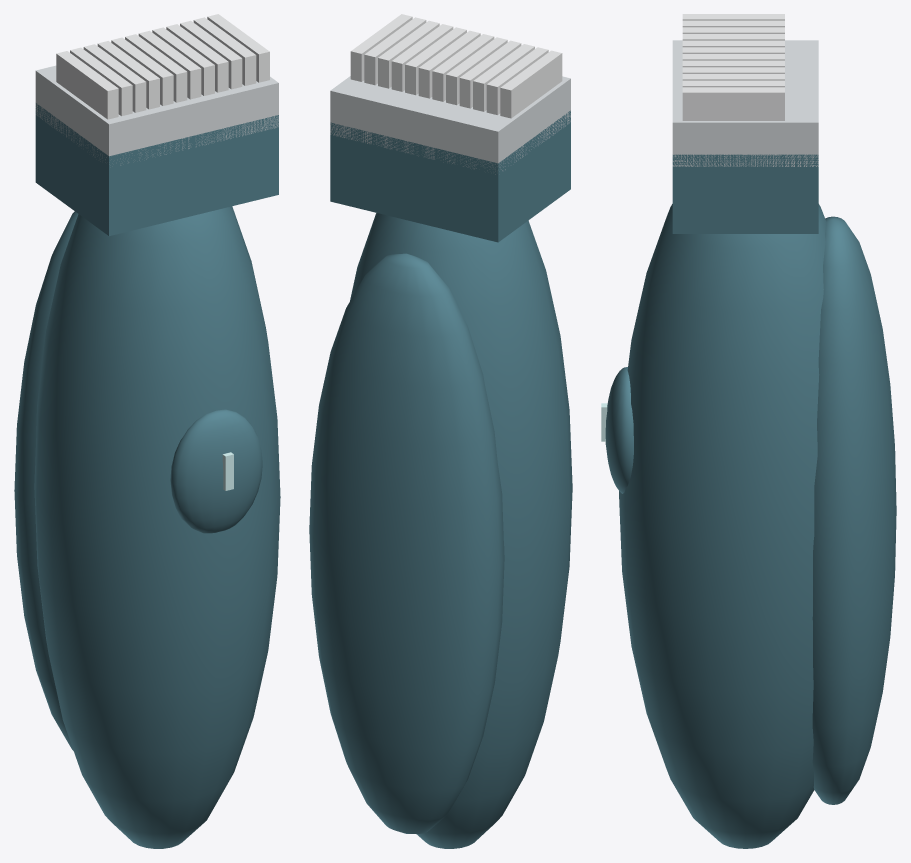
File: detail.glb
3 renders of one model, left to right at view 1: azimuth 30°, elevation 25°; view 2: azimuth 150°, elevation 25°; view 3: azimuth 270°, elevation 25°, orthographic.
Visible parts, largest first — view 1: Grip, Blade_mount, Blade_plate, Rubber_back, Power_button, Tooth_0, Tooth_2, Tooth_6, Tooth_9, Tooth_10, Tooth_5, Tooth_1 (+5 smaller); view 2: Rubber_back, Grip, Blade_mount, Blade_plate, Tooth_0, Tooth_6, Tooth_1, Tooth_11, Tooth_3, Tooth_10, Tooth_7, Tooth_8 (+4 smaller); view 3: Grip, Rubber_back, Blade_mount, Blade_plate, Tooth_11, Power_button, Tooth_1, Tooth_4, Tooth_7, Tooth_10, Tooth_0, Tooth_2 (+5 smaller).
Boxes of the visible parts, x1,y1,x2,y2 form: Grip: (34, 206, 280, 848); Blade_mount: (35, 103, 278, 236); Blade_plate: (35, 65, 278, 165); Rubber_back: (14, 211, 78, 750); Power_button: (170, 409, 262, 533); Tooth_0: (56, 51, 118, 119); Tooth_2: (83, 44, 146, 112); Tooth_6: (138, 30, 201, 99); Tooth_9: (180, 20, 242, 89); Tooth_10: (193, 17, 256, 85); Tooth_5: (125, 34, 187, 102); Tooth_1: (70, 47, 132, 116); Rubber_back: (309, 253, 504, 833); Grip: (350, 213, 572, 848); Blade_mount: (330, 110, 570, 242); Blade_plate: (330, 76, 570, 174); Tooth_0: (500, 50, 562, 118); Tooth_6: (418, 30, 480, 98); Tooth_1: (486, 47, 548, 114); Tooth_11: (350, 14, 412, 81); Tooth_3: (459, 40, 521, 108); Tooth_10: (364, 17, 426, 85); Tooth_7: (405, 27, 466, 95); Tooth_8: (391, 24, 453, 91); Grip: (619, 204, 826, 848); Rubber_back: (812, 216, 896, 804); Blade_mount: (672, 154, 818, 233); Blade_plate: (672, 40, 818, 166); Tooth_11: (682, 87, 784, 120); Power_button: (605, 367, 633, 493); Tooth_1: (682, 20, 784, 27); Tooth_4: (682, 40, 784, 47); Tooth_7: (682, 60, 784, 67); Tooth_10: (682, 80, 784, 87); Tooth_0: (682, 14, 784, 20); Tooth_2: (682, 27, 784, 33).
Bounding box in the file's own units: 0.25 × 0.898 × 0.303.
